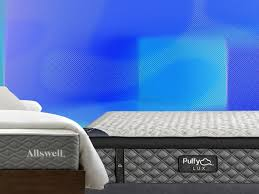bed-matress: (86, 110, 259, 186), (1, 112, 82, 169)
